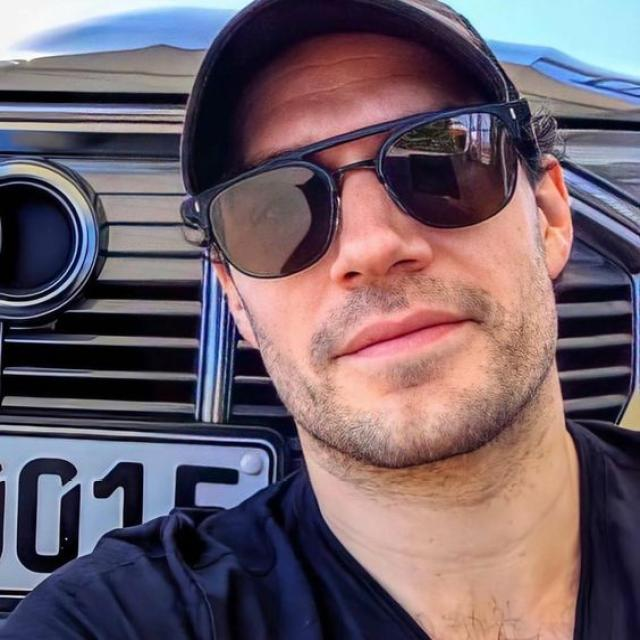glasses: (180, 94, 537, 284)
